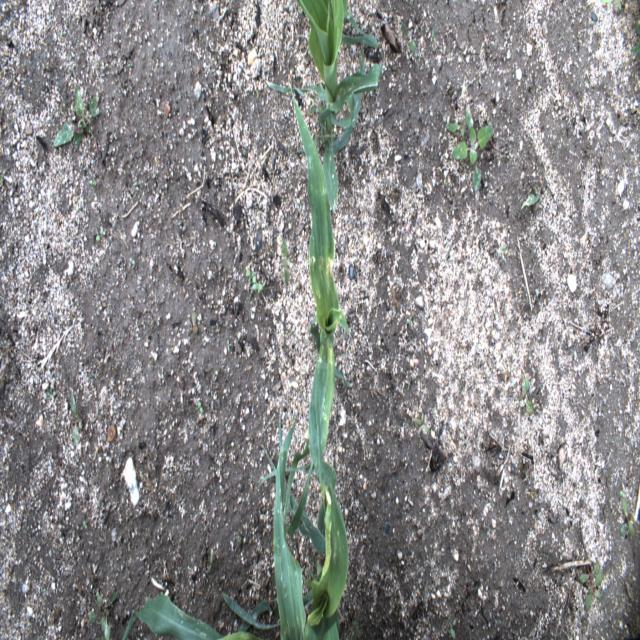crop: (121, 346, 348, 638), (262, 82, 352, 554), (266, 0, 382, 217)
weed: (445, 102, 493, 192), (52, 84, 100, 155), (88, 588, 118, 638), (579, 561, 602, 612), (618, 497, 636, 538), (280, 236, 290, 290), (401, 20, 417, 52)
